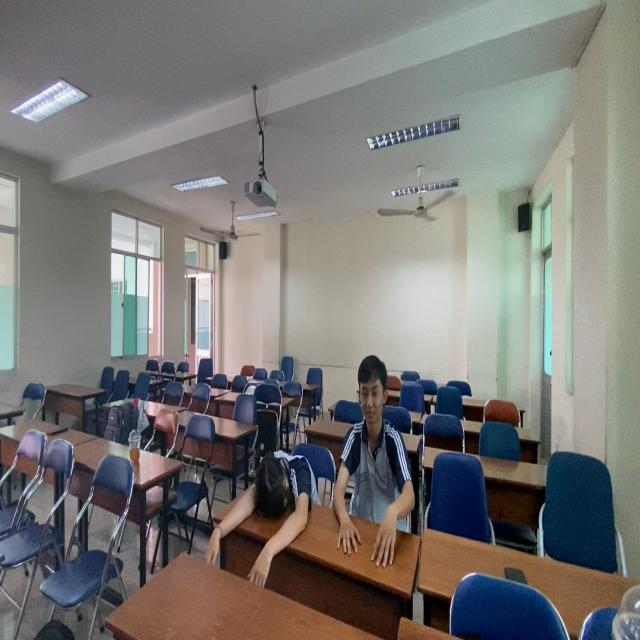sleep: (219, 440, 320, 572)
